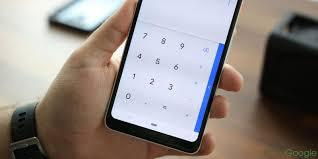Calculator: (117, 19, 224, 139)
